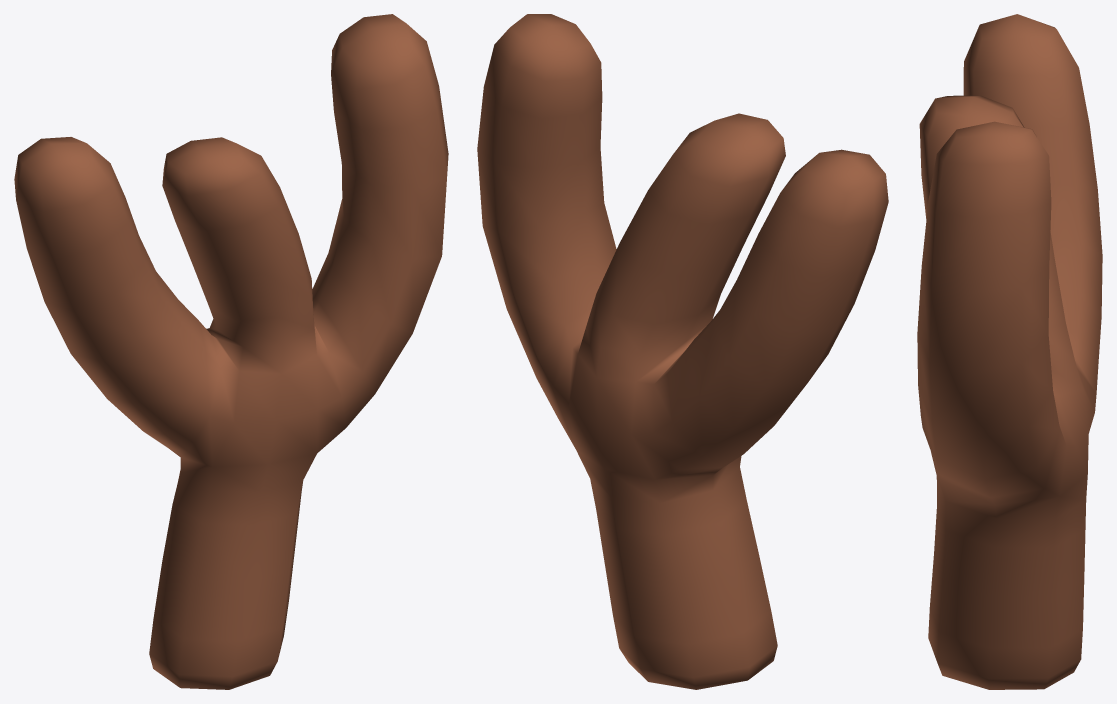
File: Shrub_Btm_A_02.fbx
The picture shows the model from 3 angles, left to right: view 1: azimuth 30°, elevation 25°; view 2: azimuth 150°, elevation 25°; view 3: azimuth 270°, elevation 25°; orthographic projection. The views are drawn at different scales.
Parts seen in each view (by area): view 1: Shrub_Btm_A_02_LOD0; view 2: Shrub_Btm_A_02_LOD0; view 3: Shrub_Btm_A_02_LOD0.
Part boxes in pixels (x1,y1,x2,y2): Shrub_Btm_A_02_LOD0: (14,14,448,689); Shrub_Btm_A_02_LOD0: (477,14,888,689); Shrub_Btm_A_02_LOD0: (917,14,1102,689).
Size of what is drawn, in the model's own units: 223 by 318 by 85.09.
